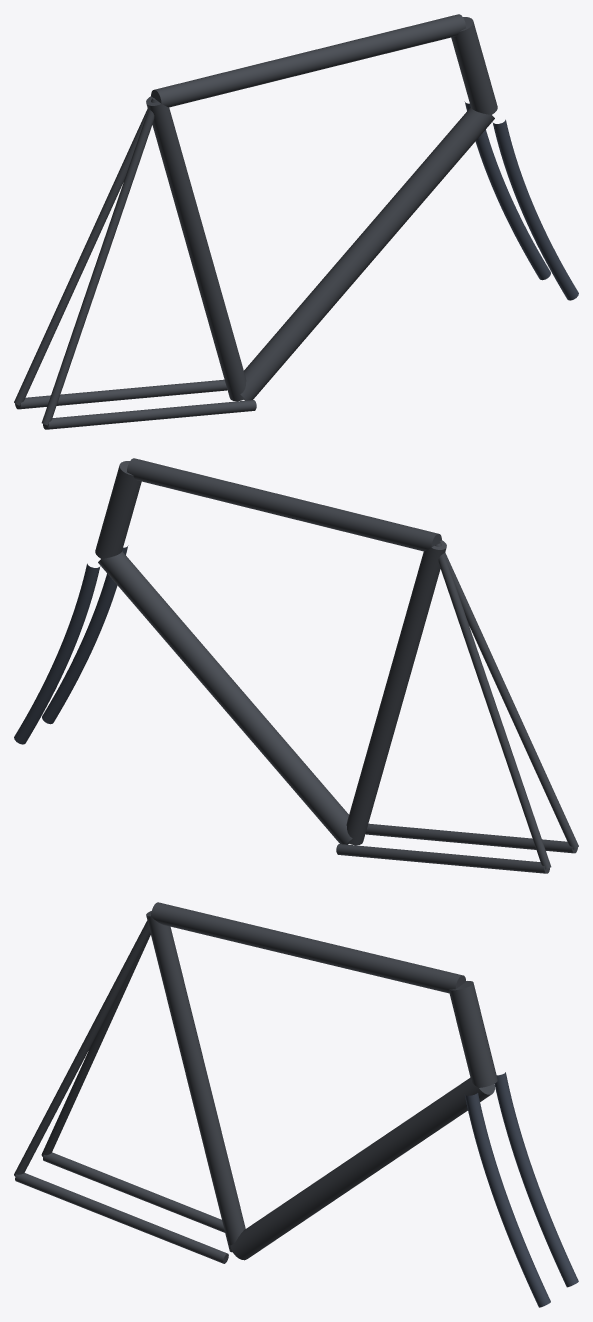
Rendered from skream-magnum-l.glb.
3 views of the same model, one above another, from view 1: azimuth 30°, elevation 25°; view 2: azimuth 150°, elevation 25°; view 3: azimuth 330°, elevation 25° (orthographic).
Visible parts, largest first — view 1: paint_down, paint_top, paint_seat, paint_seatstay_0.045, paint_seatstay_-0.045, fork_0.045, paint_chainstay_0.045, paint_head, paint_chainstay_-0.045, fork_-0.045; view 2: paint_down, paint_top, paint_seat, paint_seatstay_-0.045, paint_seatstay_0.045, fork_-0.045, paint_chainstay_-0.045, paint_head, paint_chainstay_0.045, fork_0.045; view 3: paint_down, paint_seat, paint_top, fork_0.045, fork_-0.045, paint_head, paint_chainstay_0.045, paint_seatstay_0.045, paint_chainstay_-0.045, paint_seatstay_-0.045.
Part boxes in pixels (<box>): paint_down: <box>240,107,494,400</box>; paint_top: <box>151,14,465,107</box>; paint_seat: <box>146,96,246,401</box>; paint_seatstay_0.045: <box>41,99,158,425</box>; paint_seatstay_-0.045: <box>14,98,155,405</box>; fork_0.045: <box>492,119,578,300</box>; paint_chainstay_0.045: <box>43,400,256,429</box>; paint_head: <box>451,17,497,114</box>; paint_chainstay_-0.045: <box>15,379,227,409</box>; fork_-0.045: <box>464,101,550,280</box>; paint_down: <box>98,551,352,844</box>; paint_top: <box>127,458,441,551</box>; paint_seat: <box>346,540,446,845</box>; paint_seatstay_-0.045: <box>434,543,551,869</box>; paint_seatstay_0.045: <box>437,542,578,849</box>; fork_-0.045: <box>14,563,100,744</box>; paint_chainstay_-0.045: <box>336,844,549,873</box>; paint_head: <box>95,461,141,558</box>; paint_chainstay_0.045: <box>365,823,577,853</box>; fork_0.045: <box>42,545,128,724</box>; paint_down: <box>230,1077,494,1260</box>; paint_seat: <box>146,911,245,1252</box>; paint_top: <box>151,902,465,993</box>; fork_0.045: <box>465,1093,550,1307</box>; fork_-0.045: <box>494,1072,578,1287</box>; paint_head: <box>449,981,497,1087</box>; paint_chainstay_0.045: <box>15,1173,228,1263</box>; paint_seatstay_0.045: <box>14,913,151,1176</box>; paint_chainstay_-0.045: <box>43,1152,224,1232</box>; paint_seatstay_-0.045: <box>41,933,150,1156</box>.
Bounding box in the file's own units: 1 × 0.5988 × 0.112.
